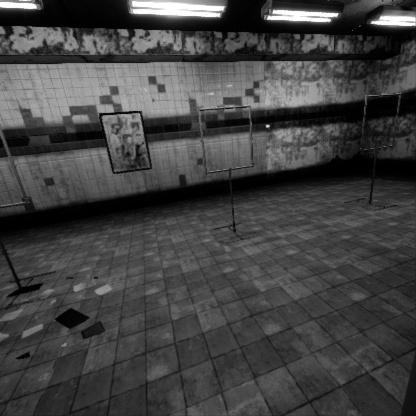gate: (197, 240, 258, 311), (360, 263, 404, 323)
